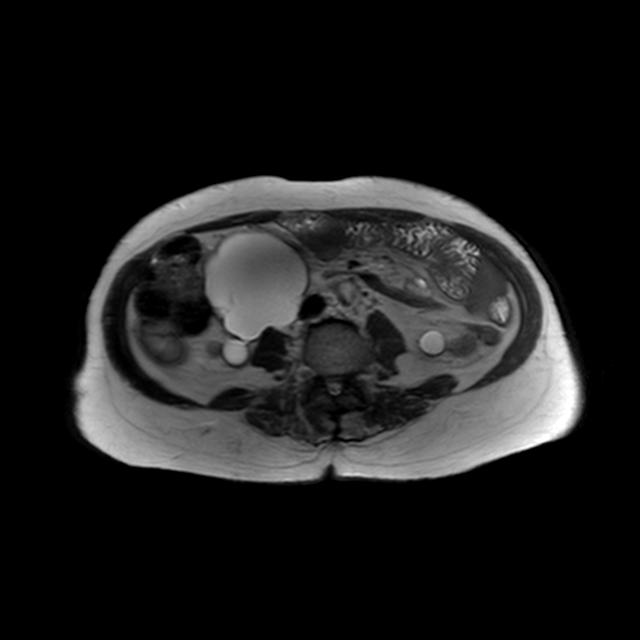sag: (201, 227, 308, 368)
sol: (418, 328, 478, 361)
